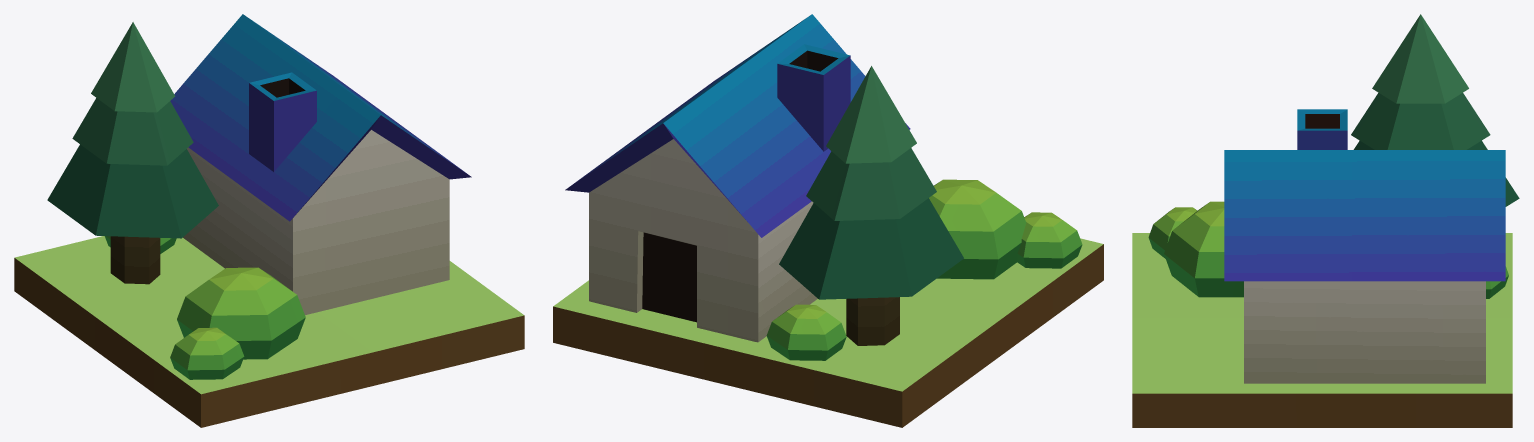
The model's file is maison sapin 2.fbx.
The picture shows the model from 3 angles, left to right: view 1: azimuth 30°, elevation 25°; view 2: azimuth 150°, elevation 25°; view 3: azimuth 270°, elevation 25°; orthographic projection. The views are drawn at different scales.
Visible parts, largest first — view 1: buisson.001; view 2: buisson.001; view 3: buisson.001.
Boxes of the visible parts, x1,y1,x2,y2 form: buisson.001: (14, 14, 524, 427); buisson.001: (553, 14, 1103, 427); buisson.001: (1132, 14, 1519, 427).
Bounding box in the file's own units: 200 × 204 × 168.
